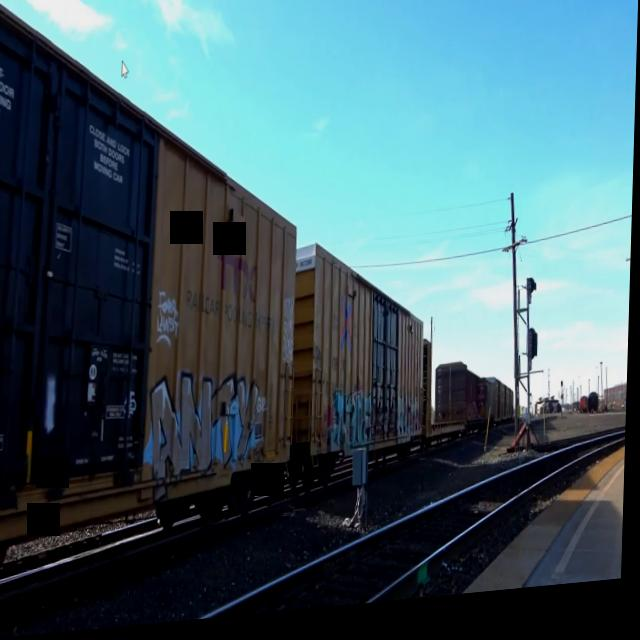boxcar: (0, 0, 311, 600), (294, 234, 433, 503)
flatcar_bulkhead: (424, 342, 472, 458)
